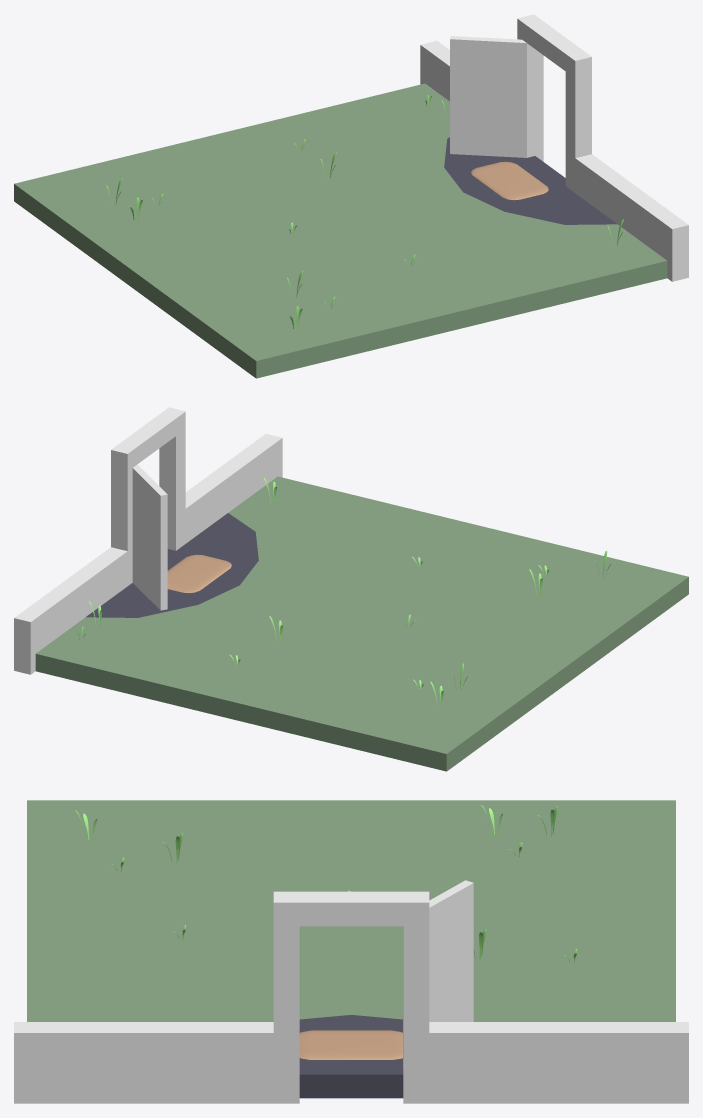
The model's file is Entry_Room.fbx.
3 views of the same model, one above another, from view 1: azimuth 30°, elevation 25°; view 2: azimuth 150°, elevation 25°; view 3: azimuth 270°, elevation 25° (orthographic). The views are drawn at different scales.
Visible parts, largest first — view 1: Salle_Entree; view 2: Salle_Entree; view 3: Salle_Entree.
Boxes of the visible parts, x1,y1,x2,y2 form: Salle_Entree: (14, 14, 688, 378); Salle_Entree: (14, 407, 688, 771); Salle_Entree: (14, 800, 688, 1103).
Size of the model in its own units: 25.5 by 8.54 by 26.
